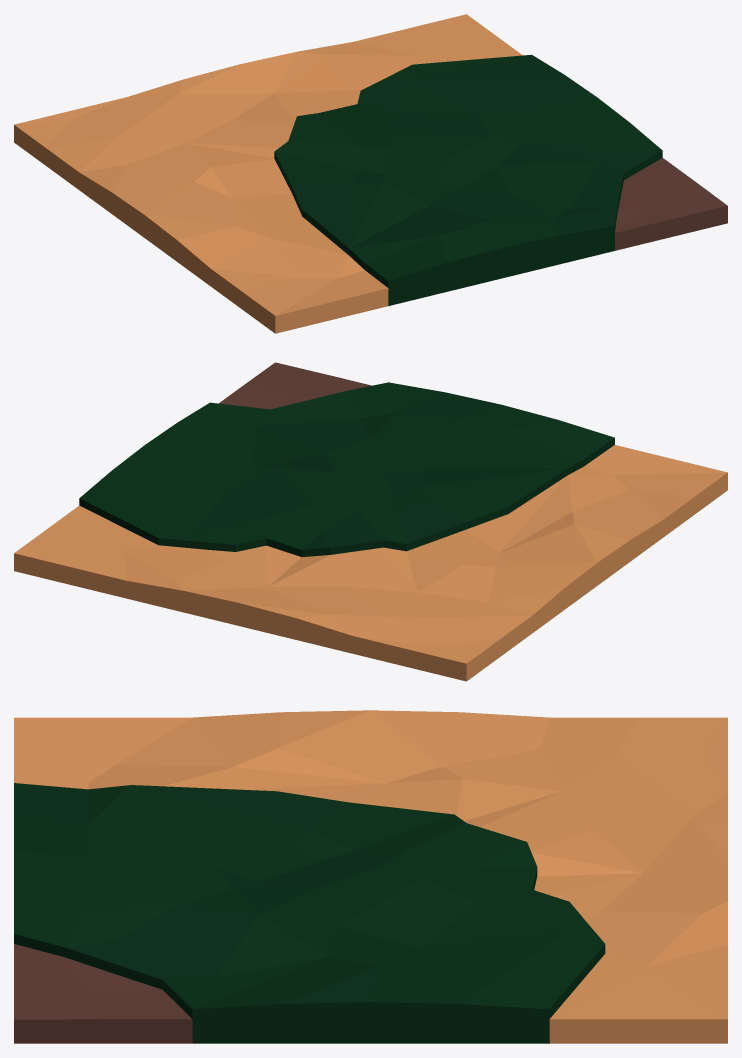
The model's file is Mud_green_road_1.FBX.
3 renders of one model, top to bottom at view 1: azimuth 30°, elevation 25°; view 2: azimuth 150°, elevation 25°; view 3: azimuth 270°, elevation 25°, orthographic. The views are drawn at different scales.
Visible parts, largest first — view 1: Mud_green_road_1; view 2: Mud_green_road_1; view 3: Mud_green_road_1.
Boxes of the visible parts, x1,y1,x2,y2 form: Mud_green_road_1: [14, 14, 727, 333]; Mud_green_road_1: [14, 362, 727, 681]; Mud_green_road_1: [14, 710, 727, 1043].
Size of the model in its own units: 1.5 by 0.1067 by 1.5.
Materials: 1 (1 with a texture image).
